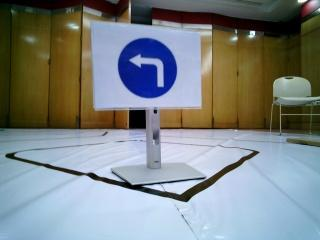left: (89, 20, 203, 106)
